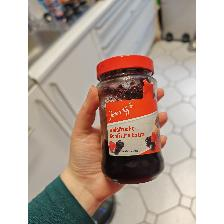Marmelade: (96, 54, 166, 184)
